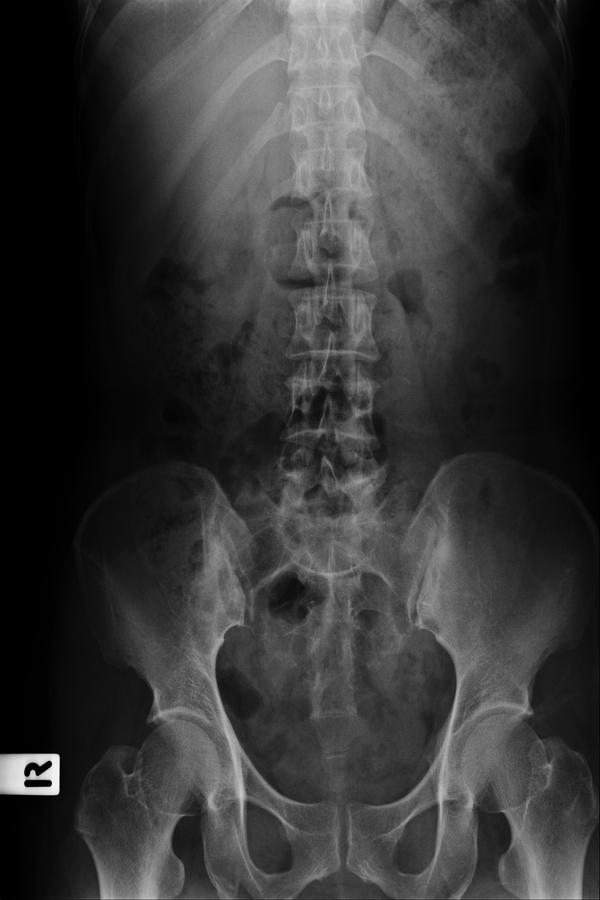lumbar scoliosis: (276, 4, 390, 576)
